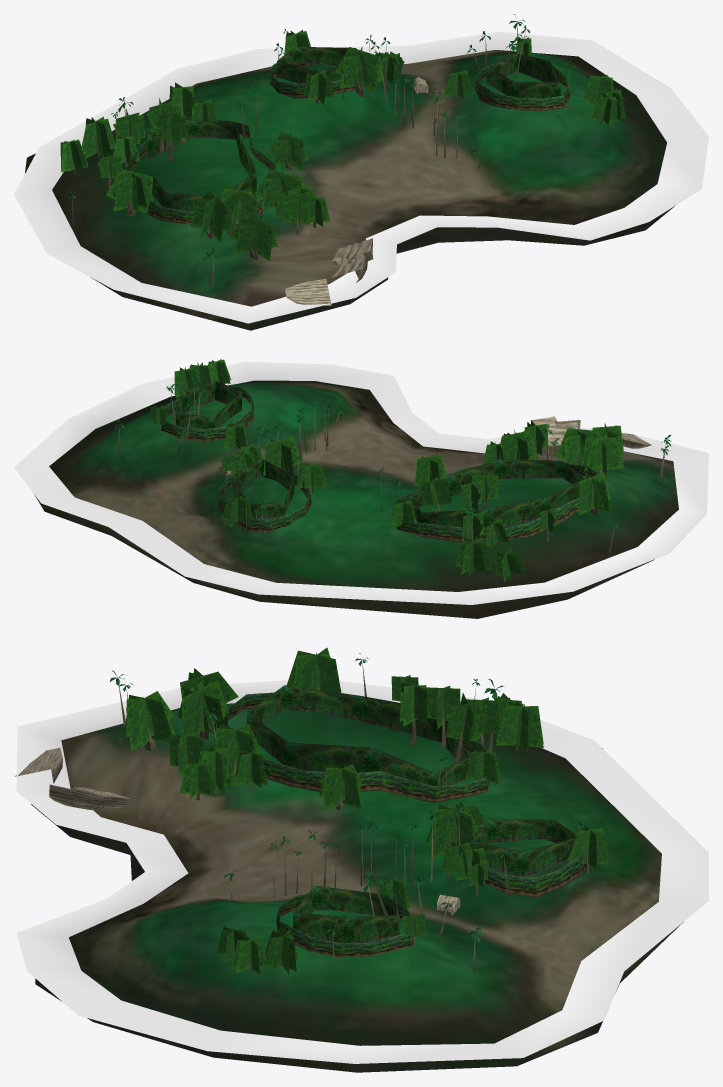
File: pir_m_are_isl_driftwood_dock_lod.fbx
3 views of the same model, one above another, from view 1: azimuth 30°, elevation 25°; view 2: azimuth 150°, elevation 25°; view 3: azimuth 270°, elevation 25° (orthographic). The views are drawn at different scales.
Parts seen in each view (by area): view 1: ground, dock_wave, tree_wall_3, tree_wall_1, tree_wall_2, berm_wall_1, berm_wall_3, exterior, berm_wall_2, leaves_2.010, leaves_2.009, leaves_2.012 (+6 smaller); view 2: ground, dock_wave, tree_wall_3, berm_wall_3, tree_wall_1, tree_wall_2, berm_wall_2, berm_wall_1, leaves_1.014, leaves_0.005, leaves_1.010, leaves_1.011 (+5 smaller); view 3: ground, dock_wave, tree_wall_3, tree_wall_1, berm_wall_3, tree_wall_2, berm_wall_1, berm_wall_2, leaves_1.013, leaves_1.012, leaves_2.009, cabin (+6 smaller).
Part boxes in pixels (left/top/right/bottom): ground: left=25, top=50, right=675, bottom=330; dock_wave: left=14, top=31, right=708, bottom=323; tree_wall_3: left=147, top=120, right=256, bottom=211; tree_wall_1: left=487, top=53, right=560, bottom=98; tree_wall_2: left=277, top=46, right=356, bottom=83; berm_wall_1: left=475, top=66, right=570, bottom=111; berm_wall_3: left=127, top=120, right=275, bottom=224; exterior: left=285, top=279, right=331, bottom=305; berm_wall_2: left=269, top=63, right=359, bottom=98; leaves_2.010: left=334, top=47, right=378, bottom=93; leaves_2.009: left=229, top=214, right=273, bottom=261; leaves_2.012: left=105, top=169, right=153, bottom=213; ground: left=34, top=380, right=678, bottom=618; dock_wave: left=14, top=361, right=708, bottom=604; tree_wall_3: left=409, top=459, right=585, bottom=527; berm_wall_3: left=396, top=463, right=597, bottom=542; tree_wall_1: left=176, top=380, right=242, bottom=429; tree_wall_2: left=233, top=459, right=294, bottom=518; berm_wall_2: left=217, top=466, right=311, bottom=532; berm_wall_1: left=161, top=386, right=253, bottom=441; leaves_1.014: left=581, top=437, right=624, bottom=470; leaves_0.005: left=419, top=479, right=452, bottom=505; leaves_1.010: left=263, top=436, right=301, bottom=475; leaves_1.011: left=500, top=430, right=536, bottom=459; ground: left=31, top=703, right=683, bottom=1072; dock_wave: left=16, top=680, right=708, bottom=1063; tree_wall_3: left=247, top=685, right=470, bottom=785; tree_wall_1: left=293, top=885, right=399, bottom=942; berm_wall_3: left=223, top=692, right=489, bottom=802; tree_wall_2: left=471, top=819, right=577, bottom=876; berm_wall_1: left=276, top=893, right=417, bottom=956; berm_wall_2: left=477, top=824, right=585, bottom=898; leaves_1.013: left=182, top=680, right=229, bottom=735; leaves_1.012: left=287, top=650, right=341, bottom=692; leaves_2.009: left=126, top=691, right=173, bottom=751; cabin: left=73, top=786, right=131, bottom=807.
Bounding box in the file's own units: 117744 × 16709 × 89650.
Materials: 3 (3 with a texture image).
